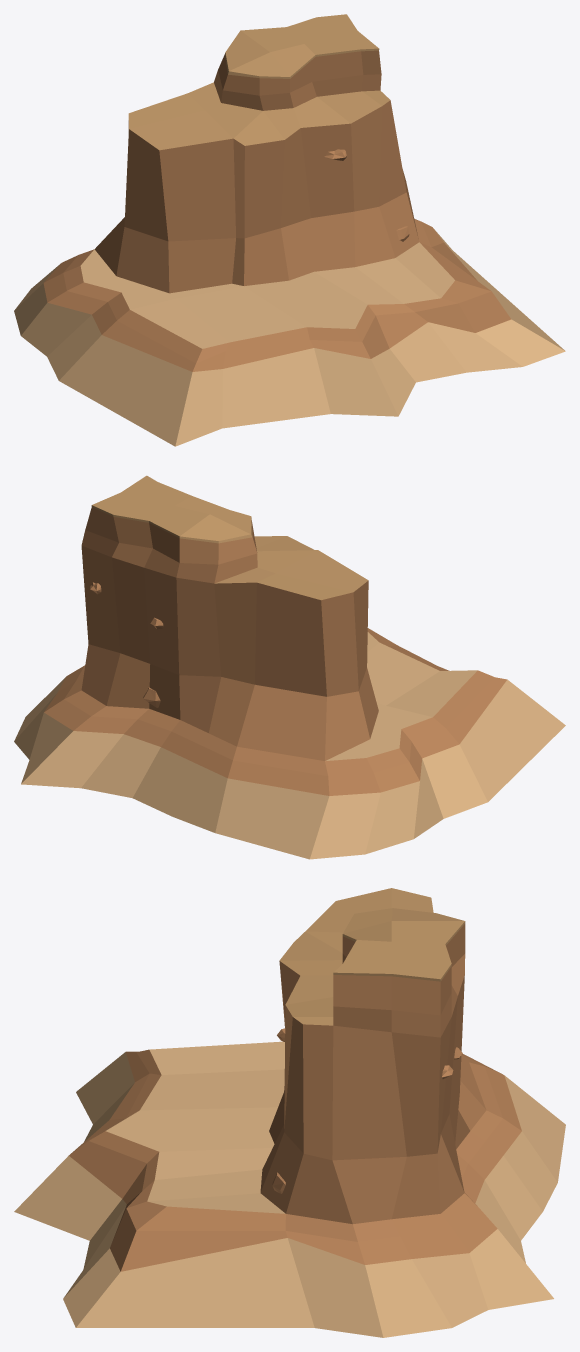
The model's file is Mountain_1.fbx.
3 renders of one model, top to bottom at view 1: azimuth 30°, elevation 25°; view 2: azimuth 150°, elevation 25°; view 3: azimuth 270°, elevation 25°, orthographic. The views are drawn at different scales.
Parts seen in each view (by area): view 1: Mountain_1; view 2: Mountain_1; view 3: Mountain_1.
Boxes of the visible parts, x1=… form: Mountain_1: x1=14, y1=14, x2=565, y2=446; Mountain_1: x1=14, y1=475, x2=565, y2=859; Mountain_1: x1=14, y1=888, x2=565, y2=1337.
Size of the model in its own units: 1663 by 1504 by 921.
